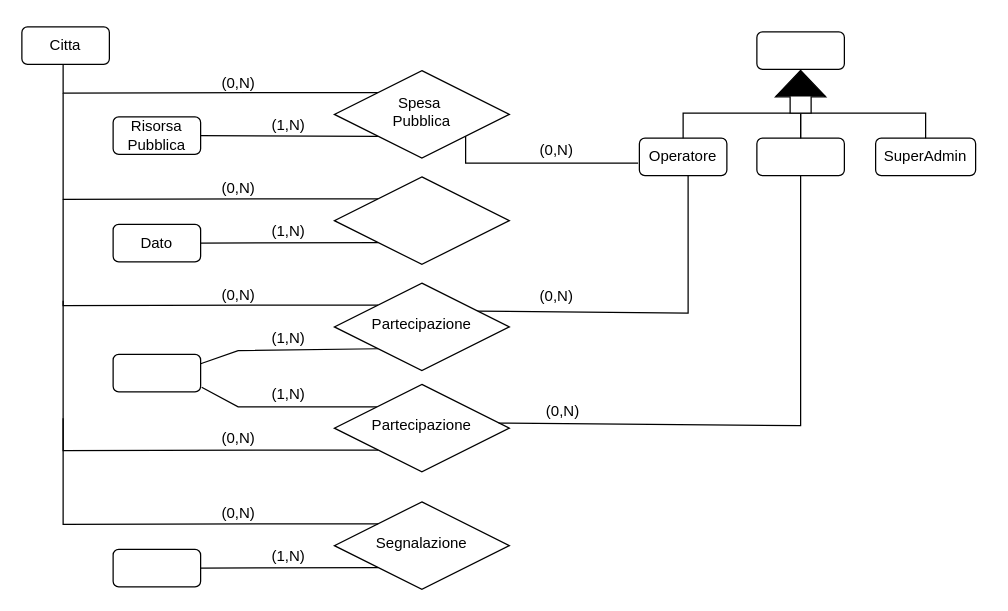
This 1008x611 diagram has some shape labels left out. Each missing label, with the box of its shape:
Cittadino: (756, 137, 844, 176)
Evento: (112, 353, 201, 392)
Feedback: (112, 548, 201, 587)
Sensore: (333, 176, 509, 264)
Utente: (756, 31, 844, 69)
